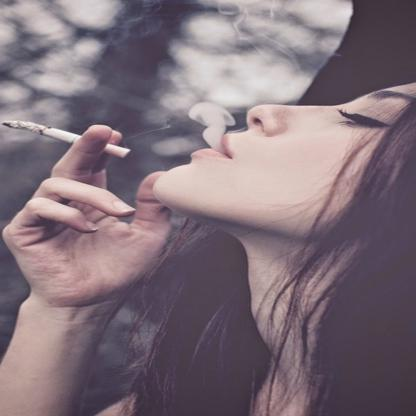smoking: (2, 121, 131, 158)
